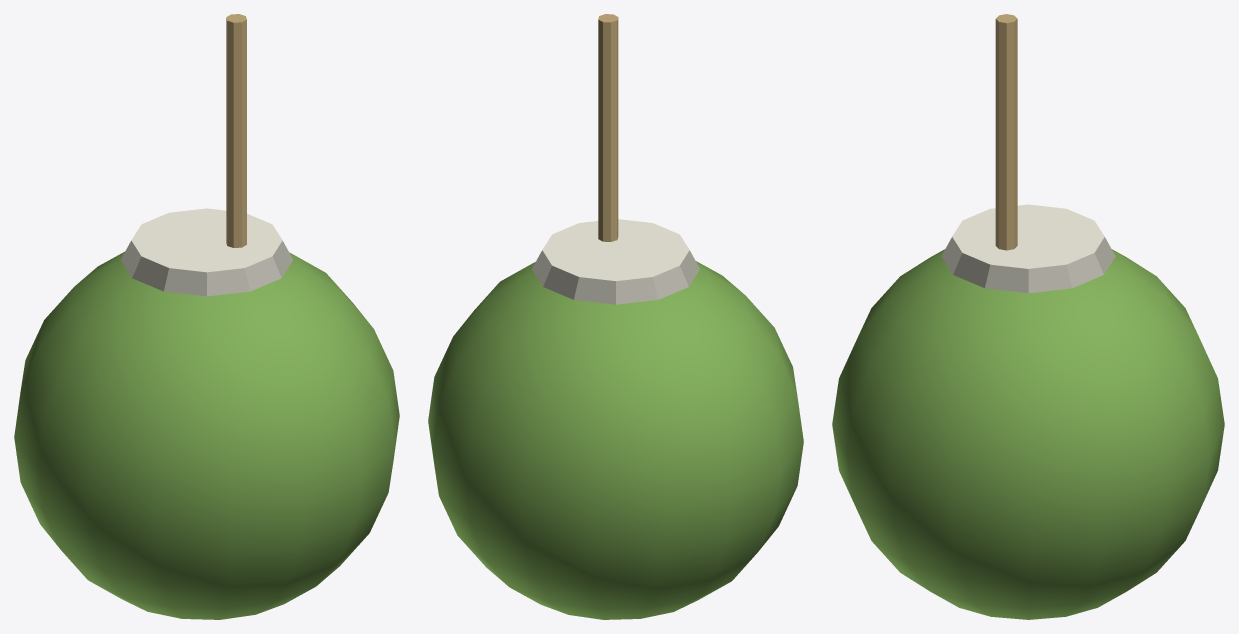
Rendered from trai_dua_xiem.obj.
3 views of the same model, side by side, from view 1: azimuth 30°, elevation 25°; view 2: azimuth 150°, elevation 25°; view 3: azimuth 270°, elevation 25° (orthographic). The views are drawn at different scales.
Size of the model in its own units: 0.18 by 0.3 by 0.18.
